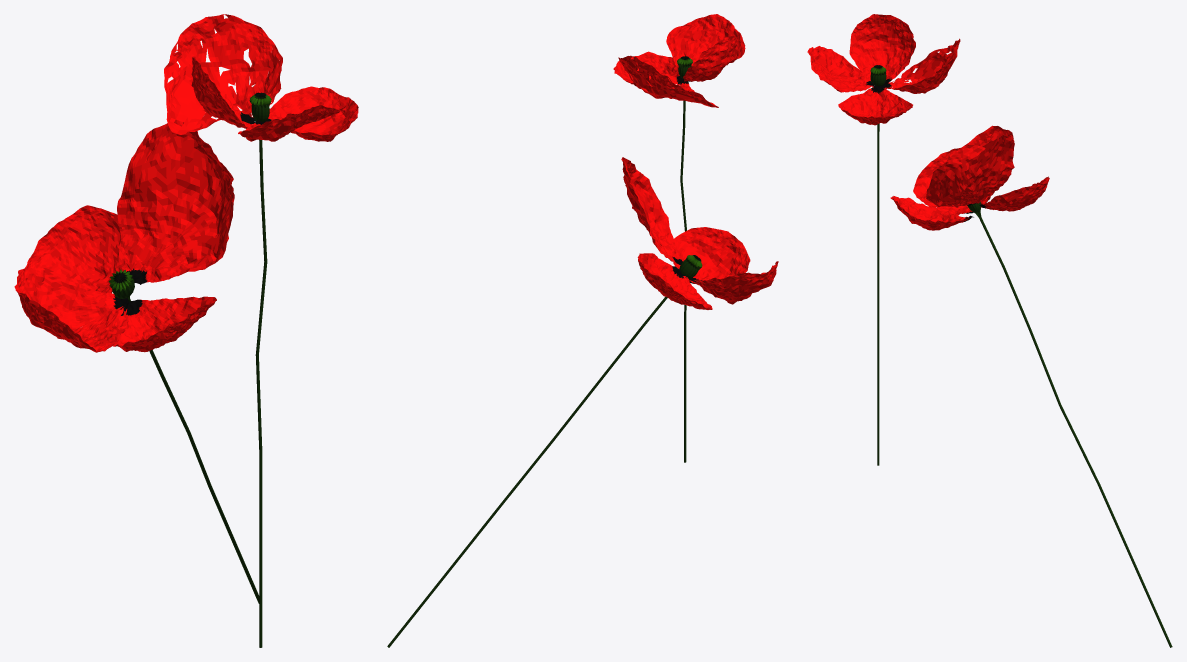
File: poppies-med.obj
The picture shows the model from 3 angles, left to right: view 1: azimuth 30°, elevation 25°; view 2: azimuth 150°, elevation 25°; view 3: azimuth 270°, elevation 25°; orthographic projection. The views are drawn at different scales.
Parts seen in each view (by area): view 1: Plane.004, object 10, Plane.007, Plane.006, Plane.005, Plane.001, Sphere, Sphere.001, Plane.002, Plane.003; view 2: Plane.005, Plane.004, Plane.003, object 10, Plane.006, Sphere.001, Plane.007, Plane.002, Sphere, Plane.001; view 3: Plane.004, Plane.002, object 10, Plane.001, Plane.003, Sphere.001, Sphere, Plane.005, Plane.007, Plane.006.
Part boxes in pixels (<box>): Plane.004: <box>117,119,234,284</box>; object 10: <box>164,14,282,134</box>; Plane.007: <box>14,268,128,352</box>; Plane.006: <box>24,205,125,293</box>; Plane.005: <box>111,296,216,352</box>; Plane.001: <box>268,86,358,141</box>; Sphere: <box>249,92,271,647</box>; Sphere.001: <box>108,269,259,603</box>; Plane.002: <box>191,56,254,128</box>; Plane.003: <box>238,105,345,141</box>; Plane.005: <box>673,227,750,285</box>; Plane.004: <box>621,157,682,267</box>; Plane.003: <box>666,14,745,67</box>; object 10: <box>618,55,718,107</box>; Plane.006: <box>637,253,712,309</box>; Sphere.001: <box>387,255,702,647</box>; Plane.007: <box>688,261,778,304</box>; Plane.002: <box>683,36,738,81</box>; Sphere: <box>677,56,692,462</box>; Plane.001: <box>613,51,679,84</box>; Plane.004: <box>926,125,1014,207</box>; Plane.002: <box>849,14,915,85</box>; object 10: <box>882,38,960,93</box>; Plane.001: <box>838,85,912,125</box>; Plane.003: <box>807,46,874,92</box>; Sphere.001: <box>967,202,1172,647</box>; Sphere: <box>870,65,886,465</box>; Plane.005: <box>890,196,973,230</box>; Plane.007: <box>913,148,994,215</box>; Plane.006: <box>979,176,1049,211</box>.
Bounding box in the file's own units: 13.21 × 24.71 × 15.09.
